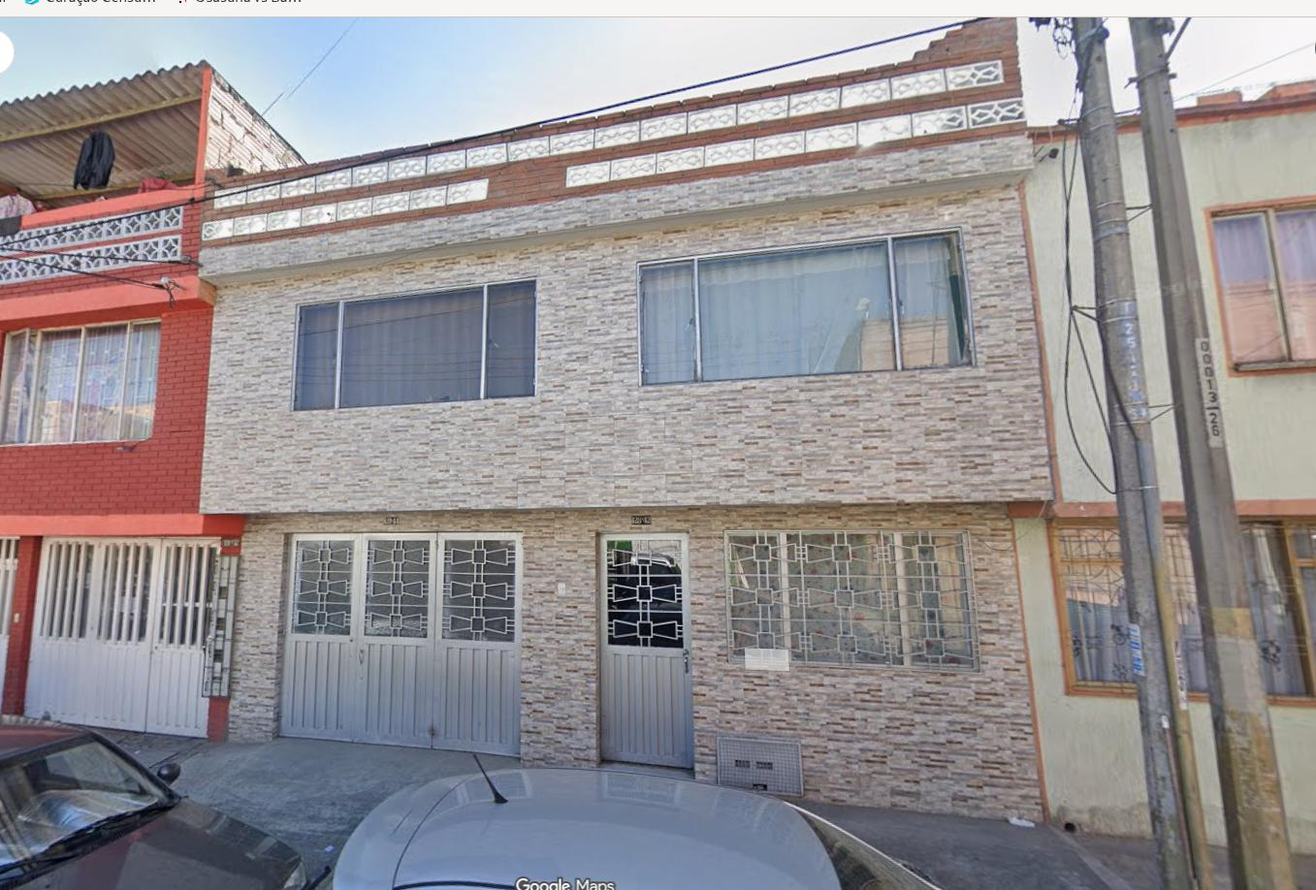casa: (197, 19, 1138, 830), (1184, 87, 1315, 730)
poste: (1130, 18, 1294, 889), (1074, 18, 1209, 889)
